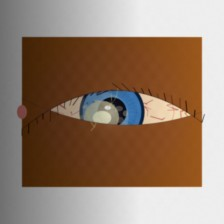corneal_ulcer: (73, 95, 130, 140)
